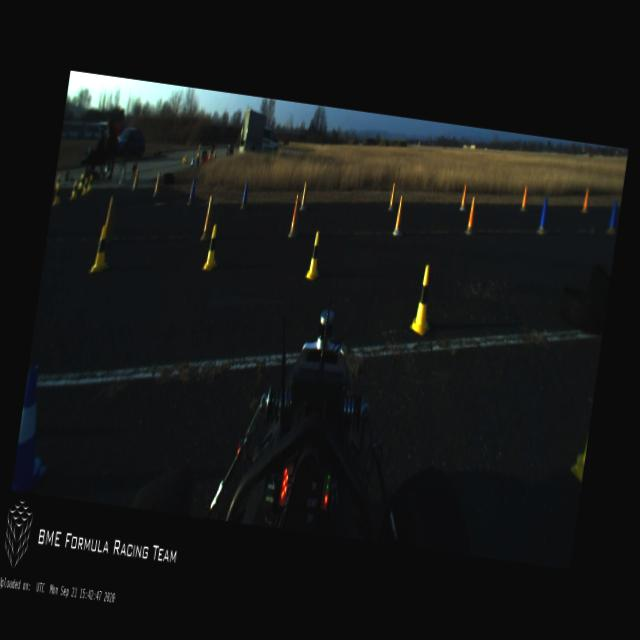blue_cone: (12, 363, 61, 495)
unknown_cone: (200, 194, 217, 242), (288, 194, 304, 238), (392, 195, 408, 237), (464, 196, 478, 236), (536, 197, 550, 235), (606, 200, 620, 236), (104, 196, 116, 236), (186, 177, 198, 207), (458, 182, 469, 212), (240, 180, 250, 212), (300, 180, 310, 212), (388, 182, 398, 211), (581, 187, 592, 213), (520, 186, 530, 212), (153, 171, 162, 198), (132, 168, 140, 192), (190, 152, 195, 166)
yellow_cone: (409, 264, 438, 336), (88, 224, 114, 277), (304, 230, 326, 282), (202, 224, 222, 272), (52, 184, 62, 208), (70, 179, 79, 201), (87, 174, 94, 191), (82, 180, 88, 197), (79, 173, 85, 190), (56, 174, 62, 184), (197, 147, 200, 158), (184, 154, 187, 162)
